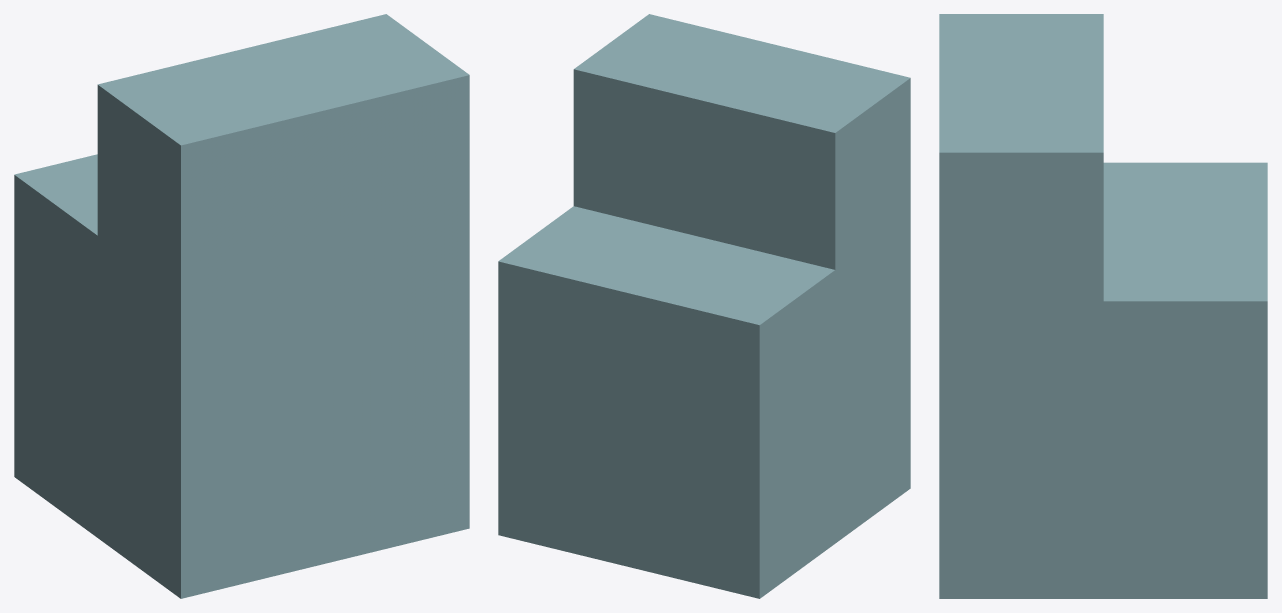
Rendered from chair.gltf.
The picture shows the model from 3 angles, left to right: view 1: azimuth 30°, elevation 25°; view 2: azimuth 150°, elevation 25°; view 3: azimuth 270°, elevation 25°; orthographic projection. The views are drawn at different scales.
Parts seen in each view (by area): view 1: Mesh0; view 2: Mesh0; view 3: Mesh0.
Part boxes in pixels (x1=…): Mesh0: x1=14, y1=14, x2=469, y2=598; Mesh0: x1=498, y1=14, x2=910, y2=598; Mesh0: x1=939, y1=14, x2=1267, y2=598.
Size of the model in its own units: 0.256 by 0.384 by 0.256.
